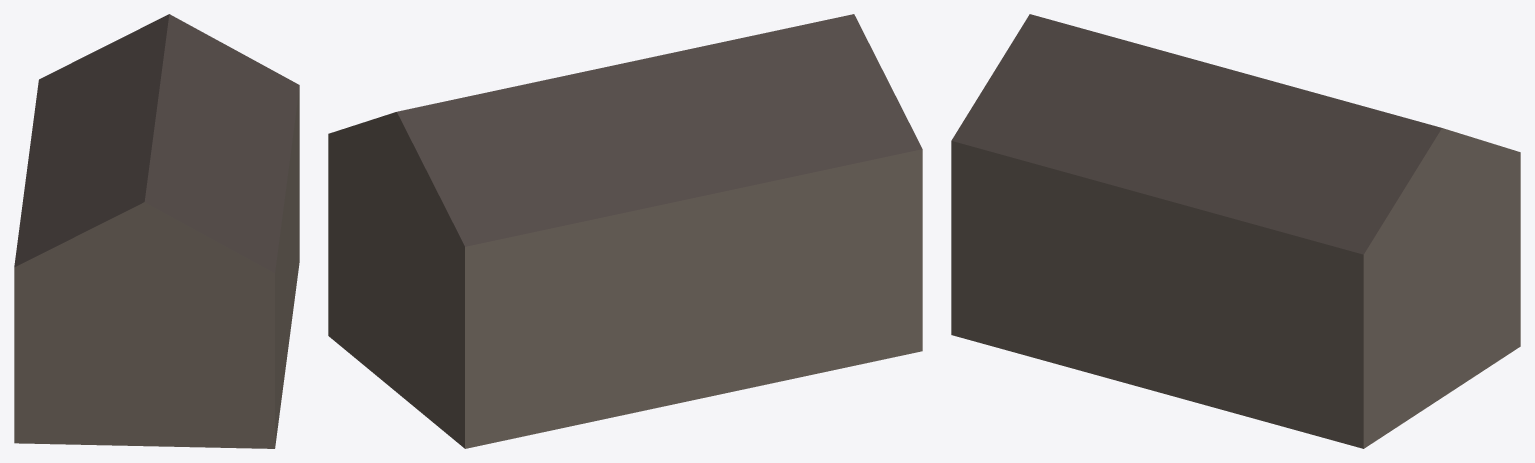
3 views of the same model, side by side, from view 1: azimuth 30°, elevation 25°; view 2: azimuth 150°, elevation 25°; view 3: azimuth 270°, elevation 25° (orthographic). The views are drawn at different scales.
Parts seen in each view (by area): view 1: HP-w178725447; view 2: HP-w178725447; view 3: HP-w178725447.
Boxes of the visible parts, x1,y1,x2,y2 form: HP-w178725447: (14, 14, 299, 448); HP-w178725447: (328, 14, 922, 448); HP-w178725447: (951, 14, 1520, 448).
Bounding box in the file's own units: 14.33 × 8.33 × 15.93.
